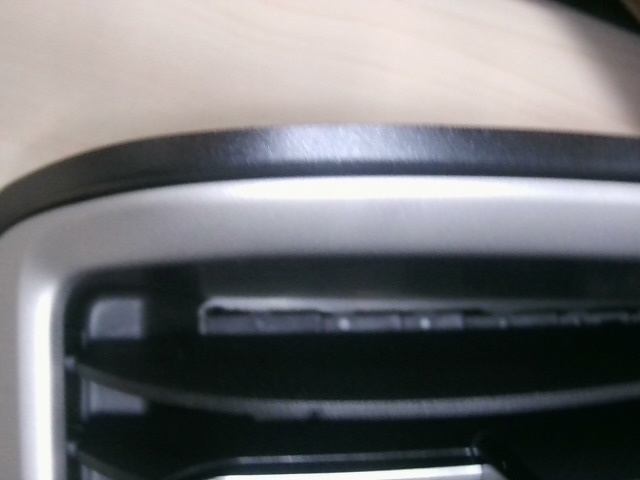NG: (243, 119, 277, 153)
